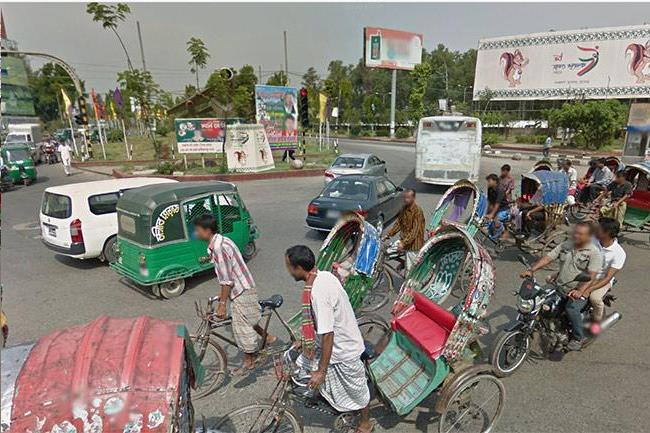Rickshaw: (208, 213, 492, 431), (190, 205, 383, 379), (2, 310, 188, 431), (511, 159, 570, 260), (427, 174, 480, 242), (616, 152, 648, 238)
